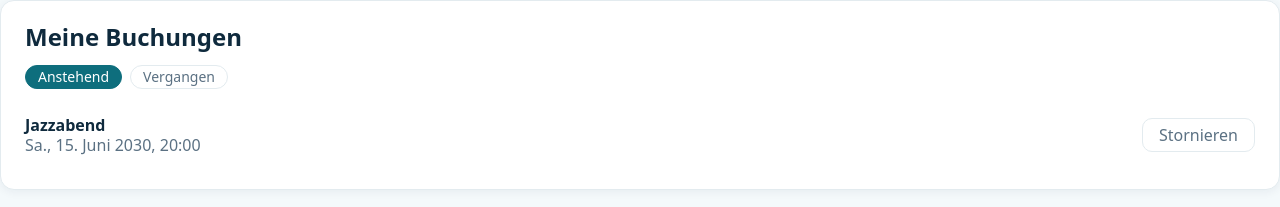
Scenario: MyBookingsPage › moves past events to their own tab, without cancel button
Expected: the link "Jazzabend" is shown, [25,114,106,136]
Expected: the link "Altes Konzert" is not shown
Click the tab "Vergangen": (179, 77) [130,65,228,89]
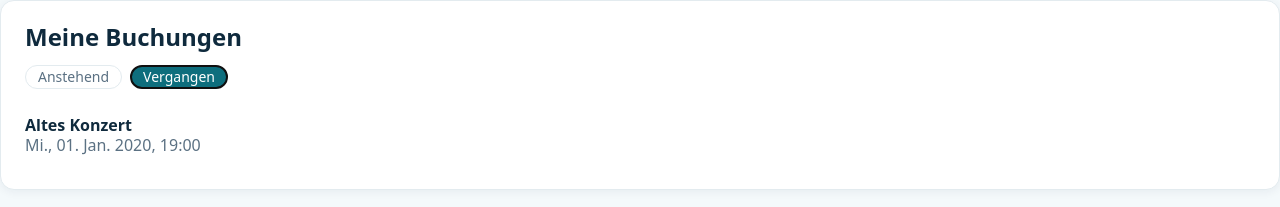
Expected: the link "Altes Konzert" is shown, [25,114,132,136]
Expected: the button "Stornieren" is gone
